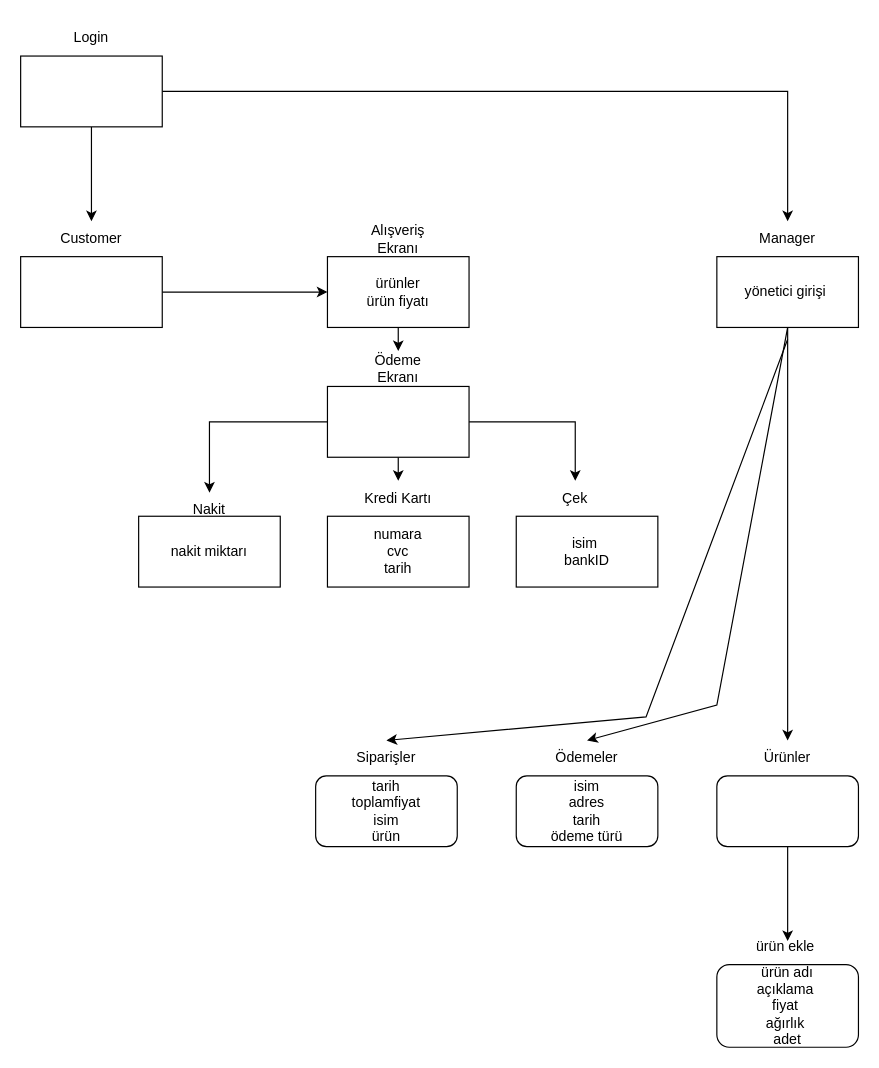
This 879x1068 diagram has some shape labels left out. Here are the shapes that lost their labels. From the top down, the centre of each, then its label:
At pixel 90 91: "username password".
At pixel 90 291: "müşteri girişi".
At pixel 397 421: "vergisiz toplam fiyat vergili toplam fiyat".
At pixel 787 811: "ürünler ürün ekle ürün çıkar".
